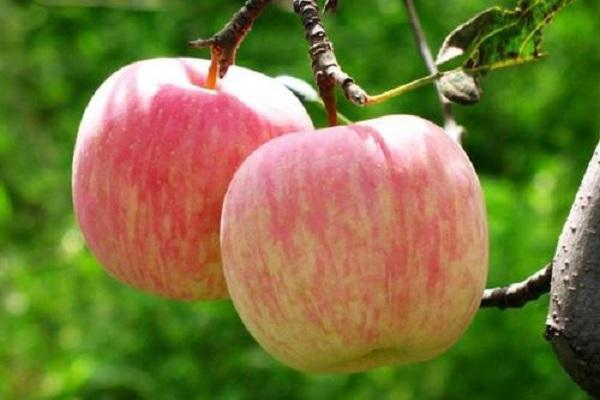apple: (223, 121, 489, 379), (70, 61, 313, 302)
